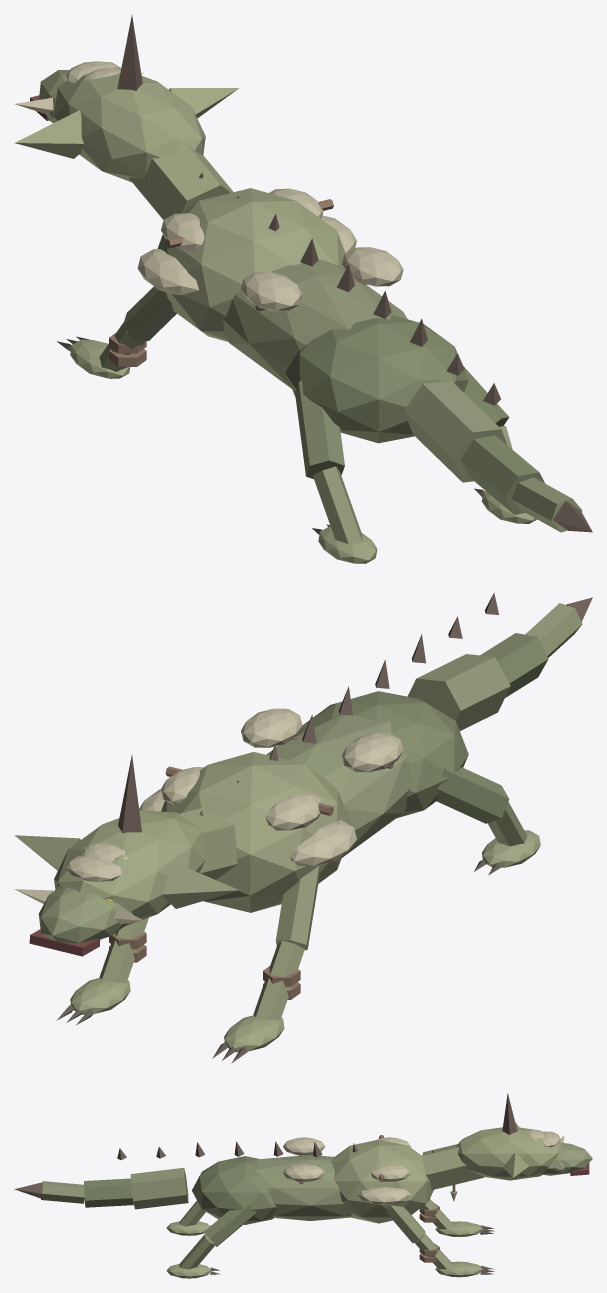
File: quadruped_tier_2_boneback_stalker.glb
3 renders of one model, top to bottom at view 1: azimuth 30°, elevation 25°; view 2: azimuth 150°, elevation 25°; view 3: azimuth 270°, elevation 25°, orthographic. The views are drawn at different scales.
Parts seen in each view (by area): view 1: hip_mass, chest_mass, head, body_main, tail_segment_0, neck, tail_segment_1, hind_upper_leg_L, hind_lower_leg_L, side_bone_plate_L_1, side_bone_plate_R_1, front_shoulder_bone_plate_L (+10 smaller); view 2: chest_mass, head, body_main, hip_mass, tail_segment_0, snout, hind_upper_leg_L, front_upper_leg_L, tail_segment_1, neck, front_lower_leg_L, front_shoulder_bone_plate_L (+15 smaller); view 3: chest_mass, body_main, hip_mass, head, tail_segment_0, neck, tail_segment_1, hind_upper_leg_R, snout, tail_segment_2, front_shoulder_bone_plate_R, front_upper_leg_R (+13 smaller).
Part boxes in pixels (bbox=[...]): hip_mass: bbox=[285, 314, 468, 443]; chest_mass: bbox=[157, 188, 345, 341]; head: bbox=[54, 67, 205, 182]; body_main: bbox=[223, 259, 407, 388]; tail_segment_0: bbox=[404, 380, 507, 482]; neck: bbox=[128, 143, 233, 219]; tail_segment_1: bbox=[460, 435, 544, 514]; hind_upper_leg_L: bbox=[295, 381, 344, 478]; hind_lower_leg_L: bbox=[312, 466, 362, 544]; side_bone_plate_L_1: bbox=[241, 271, 302, 311]; side_bone_plate_R_1: bbox=[342, 247, 403, 286]; front_shoulder_bone_plate_L: bbox=[137, 249, 199, 294]; chest_mass: bbox=[161, 752, 351, 912]; head: bbox=[54, 810, 205, 926]; body_main: bbox=[266, 714, 410, 857]; hip_mass: bbox=[299, 691, 468, 818]; tail_segment_0: bbox=[407, 654, 510, 730]; snout: bbox=[38, 887, 132, 943]; hind_upper_leg_L: bbox=[436, 767, 509, 823]; front_upper_leg_L: bbox=[275, 866, 319, 950]; tail_segment_1: bbox=[480, 633, 548, 697]; neck: bbox=[179, 807, 237, 879]; front_lower_leg_L: bbox=[253, 941, 304, 1020]; front_shoulder_bone_plate_L: bbox=[290, 820, 356, 865]; chest_mass: bbox=[331, 1139, 433, 1223]; body_main: bbox=[253, 1155, 352, 1220]; hip_mass: bbox=[192, 1156, 276, 1224]; head: bbox=[456, 1127, 563, 1180]; tail_segment_0: bbox=[130, 1167, 188, 1209]; neck: bbox=[422, 1144, 484, 1190]; tail_segment_1: bbox=[84, 1178, 133, 1207]; hind_upper_leg_R: bbox=[204, 1204, 256, 1246]; snout: bbox=[541, 1142, 592, 1175]; tail_segment_2: bbox=[41, 1181, 84, 1203]; front_shoulder_bone_plate_R: bbox=[358, 1187, 410, 1205]; front_upper_leg_R: bbox=[386, 1205, 425, 1243].
Size of the model in its own units: 0.9381 by 1.21 by 3.9.
